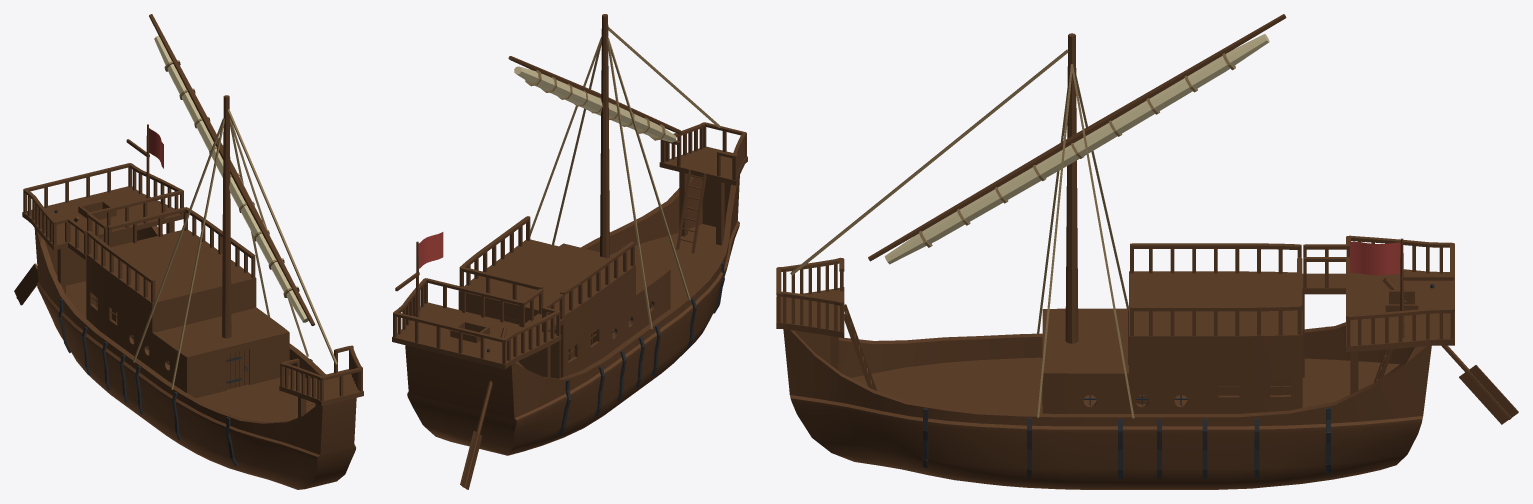
Rendered from vehicule--barge-fluviale.glb.
3 renders of one model, left to right at view 1: azimuth 30°, elevation 25°; view 2: azimuth 150°, elevation 25°; view 3: azimuth 270°, elevation 25°, orthographic. The views are drawn at different scales.
Parts seen in each view (by area): view 1: coque, mat; view 2: coque, mat; view 3: coque, mat.
Part boxes in pixels (x1,y1,x2,y2): coque: [14, 109, 363, 489]; mat: [149, 14, 314, 338]; coque: [392, 27, 747, 489]; mat: [508, 14, 681, 258]; coque: [776, 49, 1518, 489]; mat: [868, 14, 1286, 343].
Bounding box in the file's own units: 4.88 × 11.45 × 17.15.
